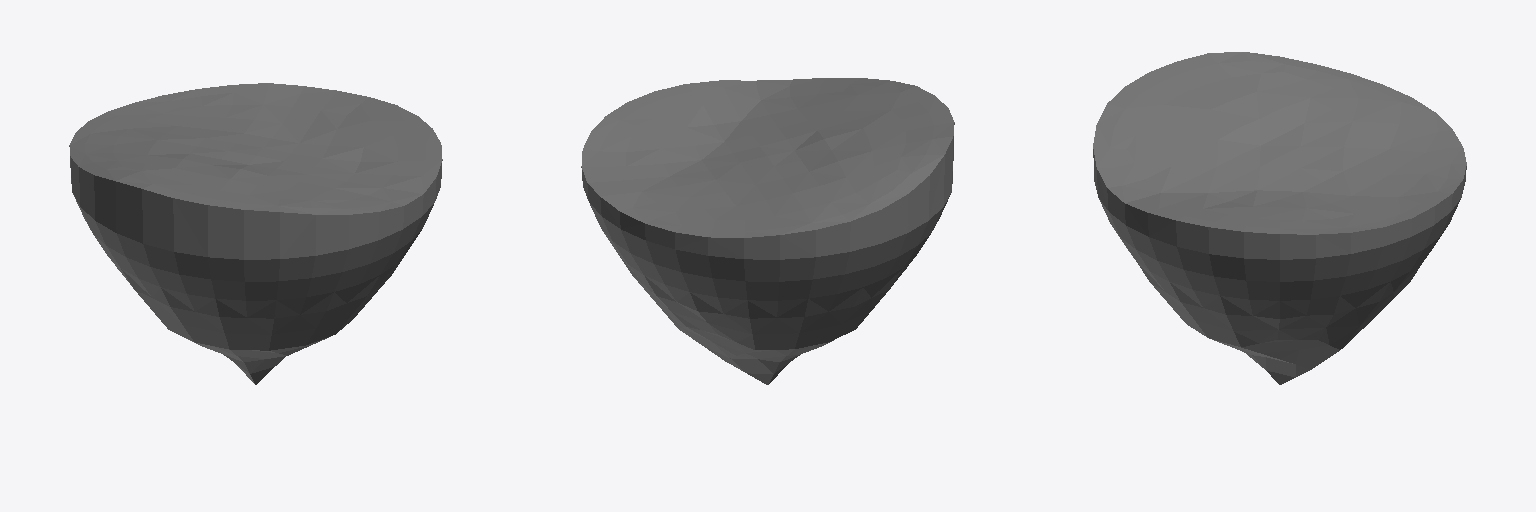
The model's file is Terrain.obj.
3 views of the same model, side by side, from view 1: azimuth 30°, elevation 25°; view 2: azimuth 150°, elevation 25°; view 3: azimuth 270°, elevation 25° (orthographic).
Visible parts, largest first — view 1: TerrainMesh Jeep:polySurface7; view 2: TerrainMesh Jeep:polySurface7; view 3: TerrainMesh Jeep:polySurface7.
Boxes of the visible parts, <box> form: TerrainMesh Jeep:polySurface7: <box>69,83,442,384</box>; TerrainMesh Jeep:polySurface7: <box>581,78,954,384</box>; TerrainMesh Jeep:polySurface7: <box>1093,52,1466,384</box>.
Bounding box in the file's own units: 92.86 × 71.08 × 92.86.